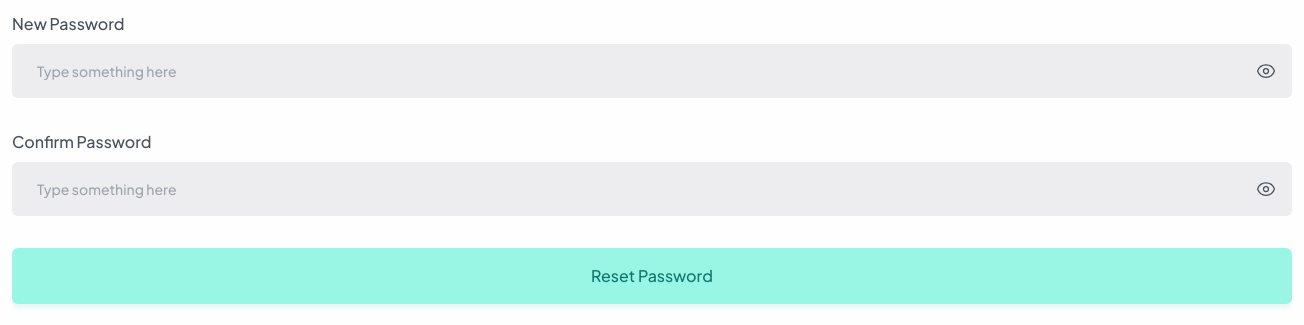
Functionality › should render correct error when password is too weak
The image size is (1304, 325).
In the password field labelled "New Password": (652, 71) [12,44,1292,98], type "pass"
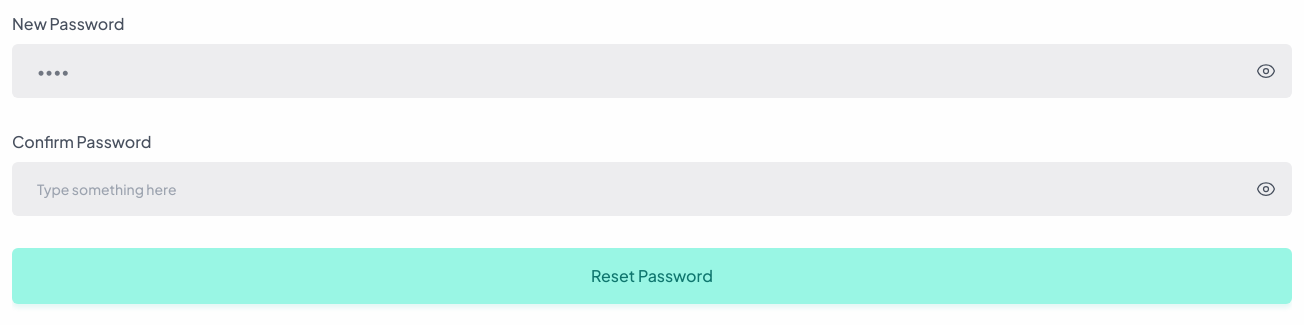
Click the button "Reset Password": click(652, 276) [12,248,1292,304]
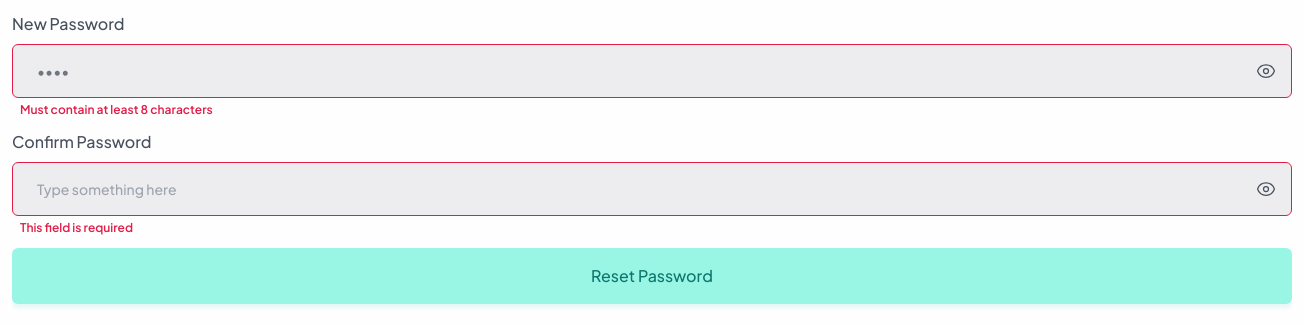
expect the text "Must contain at least 8 characters" is shown: met, box [20,102,213,118]
